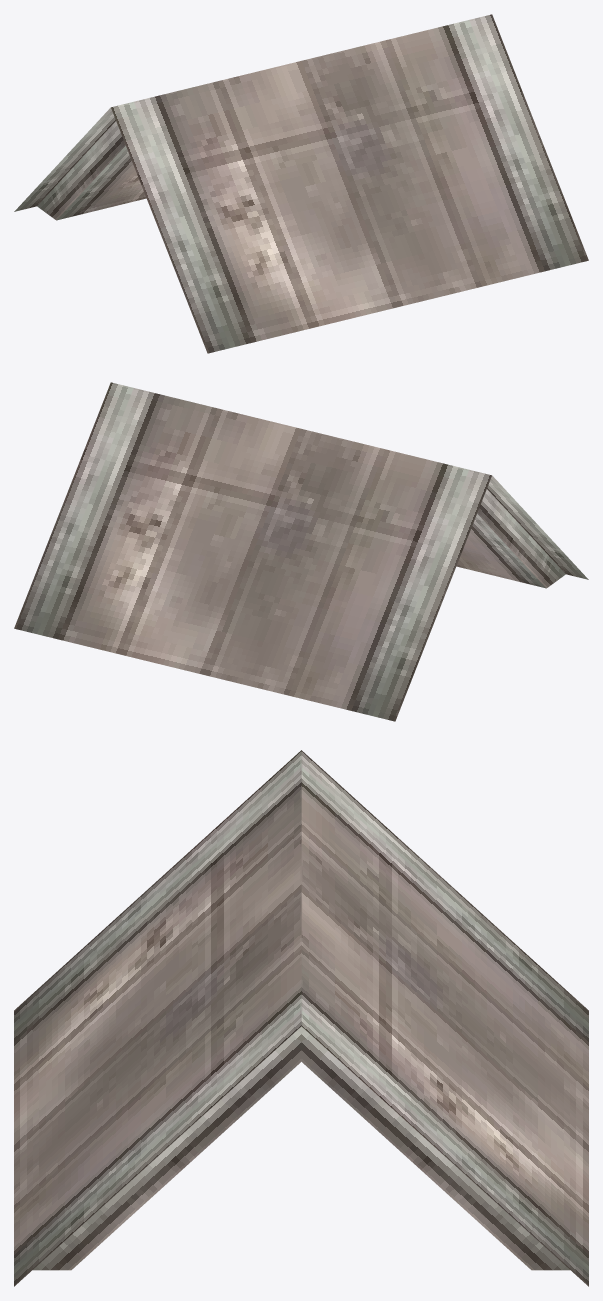
File: kenney-retro-urban-roof-metal-type-a.glb
3 views of the same model, one above another, from view 1: azimuth 30°, elevation 25°; view 2: azimuth 150°, elevation 25°; view 3: azimuth 270°, elevation 25° (orthographic). The views are drawn at different scales.
Visible parts, largest first — view 1: roof-metal-type-a; view 2: roof-metal-type-a; view 3: roof-metal-type-a.
Part boxes in pixels (x1,y1,x2,y2): roof-metal-type-a: [14, 14, 588, 353]; roof-metal-type-a: [14, 382, 588, 721]; roof-metal-type-a: [14, 750, 588, 1286].
Bounding box in the file's own units: 1.14 × 0.5001 × 1.
2 materials, 2 textured.
